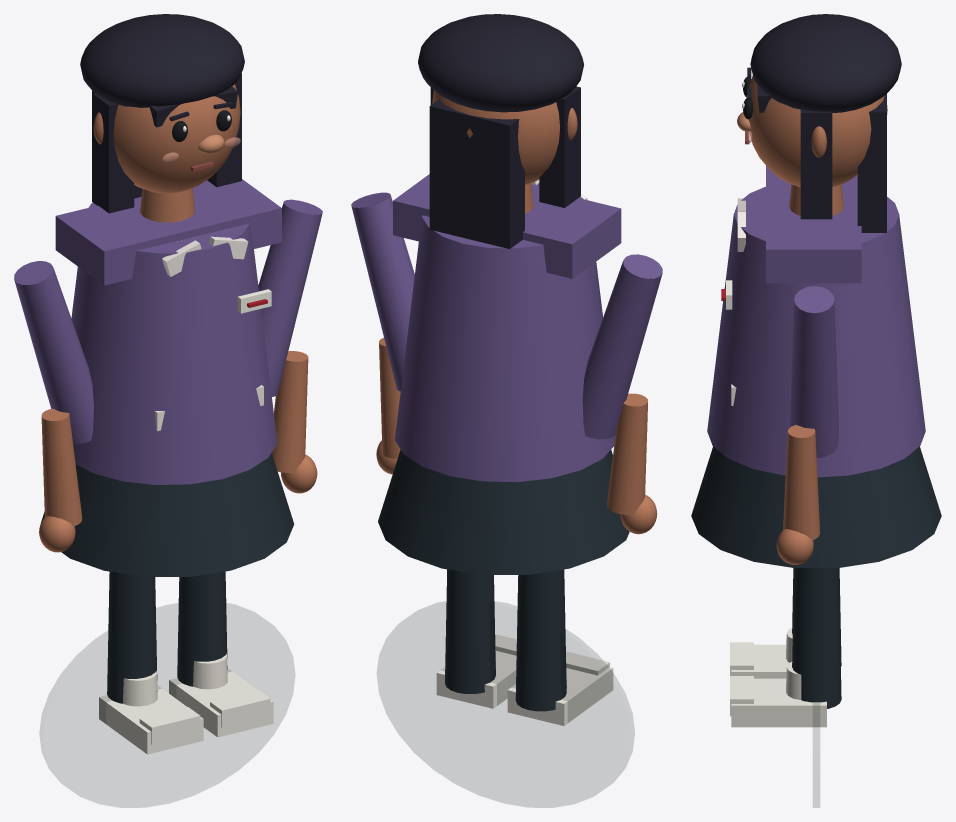
Rendered from staff_09_dermo.glb.
3 renders of one model, left to right at view 1: azimuth 30°, elevation 25°; view 2: azimuth 150°, elevation 25°; view 3: azimuth 270°, elevation 25°, orthographic. The views are drawn at different scales.
Parts seen in each view (by area): view 1: torso, contact_shadow, skirt, hair_cap, shoulder_line, head, upper_arm_-0.235, upper_arm_0.235, leg_-0.075, leg_0.075, forearm_-0.235, forearm_0.235 (+12 smaller); view 2: torso, contact_shadow, skirt, hair_cap, back_hair, upper_arm_-0.235, shoulder_line, leg_-0.075, upper_arm_0.235, leg_0.075, forearm_-0.235, head (+6 smaller); view 3: torso, skirt, hair_cap, shoulder_line, upper_arm_0.235, leg_0.075, head, forearm_0.235, shoe_0.075, side_hair_0.115, back_hair, shoe_-0.075 (+6 smaller).
Part boxes in pixels (box(x1,y1,x2,y2)): torso: box(71, 203, 277, 484); contact_shadow: box(40, 603, 294, 807); skirt: box(41, 453, 294, 576); hair_cap: box(80, 14, 244, 107); shoulder_line: box(55, 179, 281, 285); head: box(113, 84, 240, 193); upper_arm_-0.235: box(14, 261, 93, 444); upper_arm_0.235: box(258, 199, 322, 396); leg_-0.075: box(107, 571, 157, 703); leg_0.075: box(177, 571, 227, 686); forearm_-0.235: box(41, 408, 82, 526); forearm_0.235: box(271, 351, 308, 472); torso: box(395, 183, 615, 482); contact_shadow: box(377, 601, 634, 807); skirt: box(378, 449, 629, 574); hair_cap: box(418, 14, 583, 112); back_hair: box(429, 99, 524, 248); upper_arm_-0.235: box(582, 254, 662, 439); shoulder_line: box(393, 174, 621, 278); leg_-0.075: box(515, 569, 566, 711); upper_arm_0.235: box(351, 192, 414, 391); leg_0.075: box(445, 569, 495, 693); forearm_-0.235: box(607, 393, 647, 514); head: box(432, 90, 559, 184); torso: box(707, 186, 925, 477); skirt: box(691, 446, 941, 567); hair_cap: box(750, 14, 901, 112); shoulder_line: box(766, 166, 861, 283); upper_arm_0.235: box(789, 286, 838, 458); leg_0.075: box(792, 568, 841, 708); head: box(746, 75, 887, 187); forearm_0.235: box(783, 425, 820, 540); shoe_0.075: box(731, 678, 826, 727); side_hair_0.115: box(800, 109, 832, 219); back_hair: box(857, 94, 886, 232); shoe_-0.075: box(731, 644, 788, 678).
Bounding box in the file's own units: 0.6295 × 1.53 × 0.4559.
